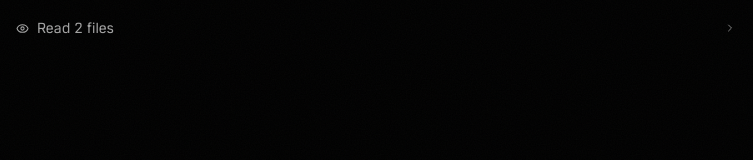
MessagesTimeline › collapses two consecutive tools into exactly one summary button
Step 1. Click the button "Read 2 files" → [76, 28], box 16,16 -> 736,40
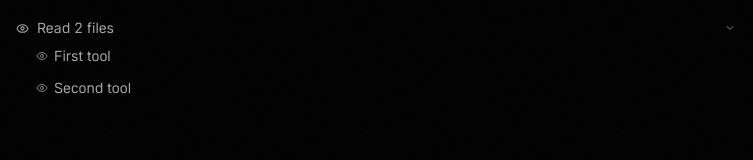
expect the button "Read 2 files" is expanded: met, box 16,16 -> 736,40
expect the text "First tool" is shown: met, box 54,46 -> 111,66
expect the text "Second tool" is shown: met, box 54,78 -> 131,98
